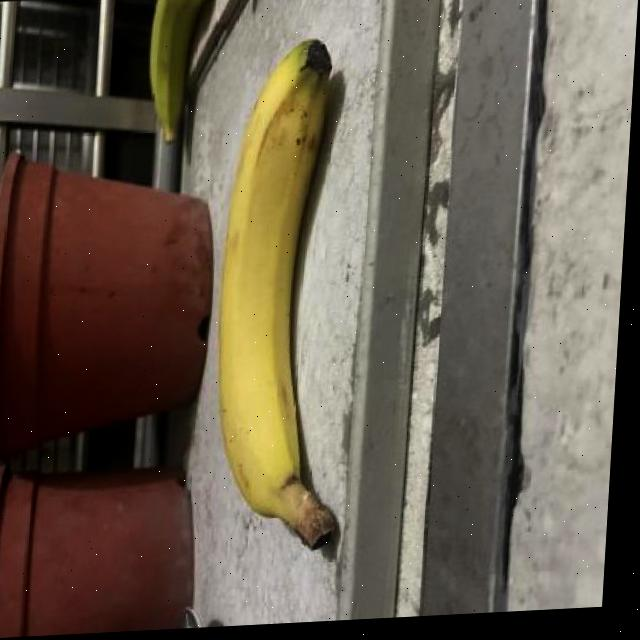banana: (201, 32, 370, 564)
